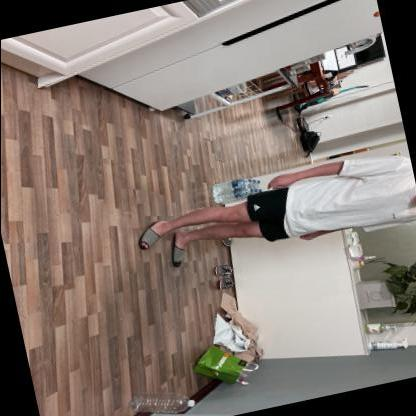no_safety-shoe: (124, 214, 178, 254), (155, 228, 191, 273)
